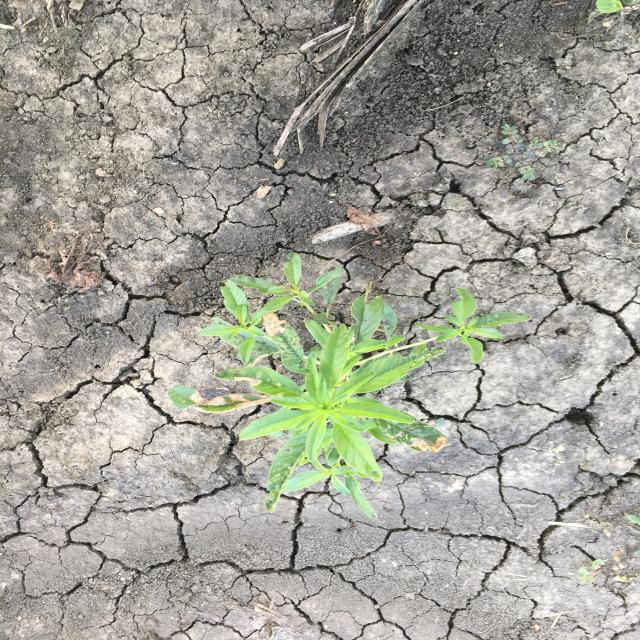SpottedSpurge: (475, 122, 567, 183)
Waterhemp: (164, 251, 534, 522)
